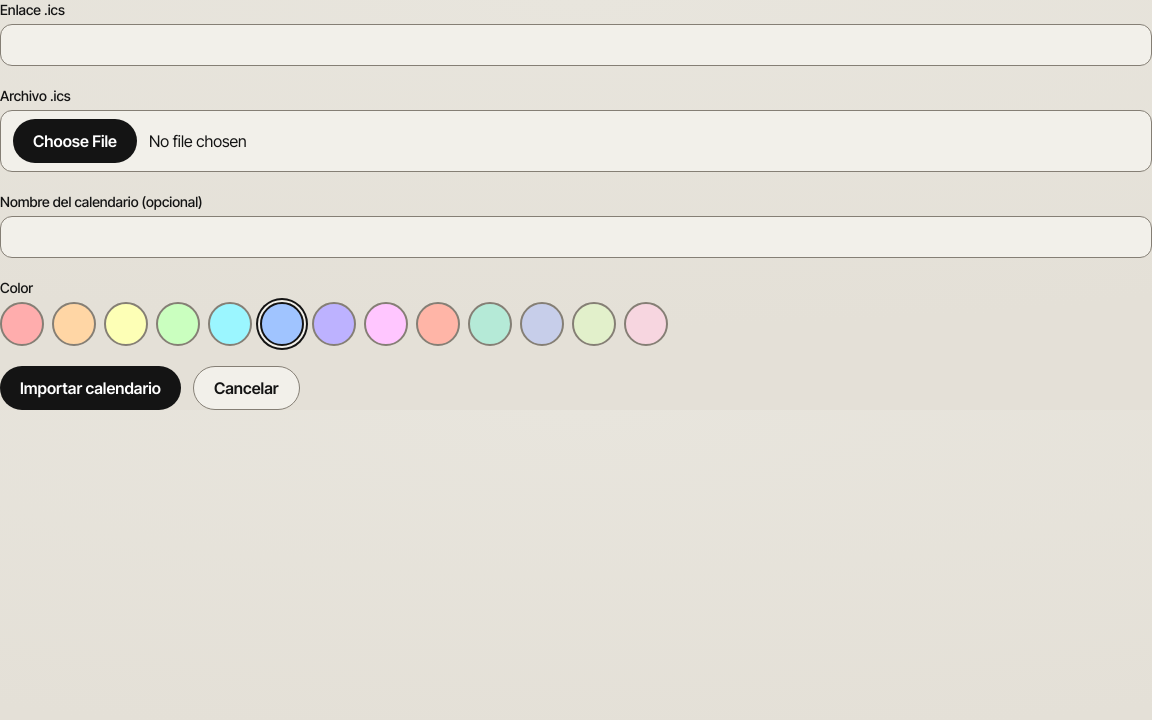
Test: ImportForm progress (RF-31, RF-32) › shows the summary when the import finishes
The image size is (1152, 720).
Step 1. Click the button "Importar calendario" → (90, 388), box x1=0 y1=366 x2=181 y2=410
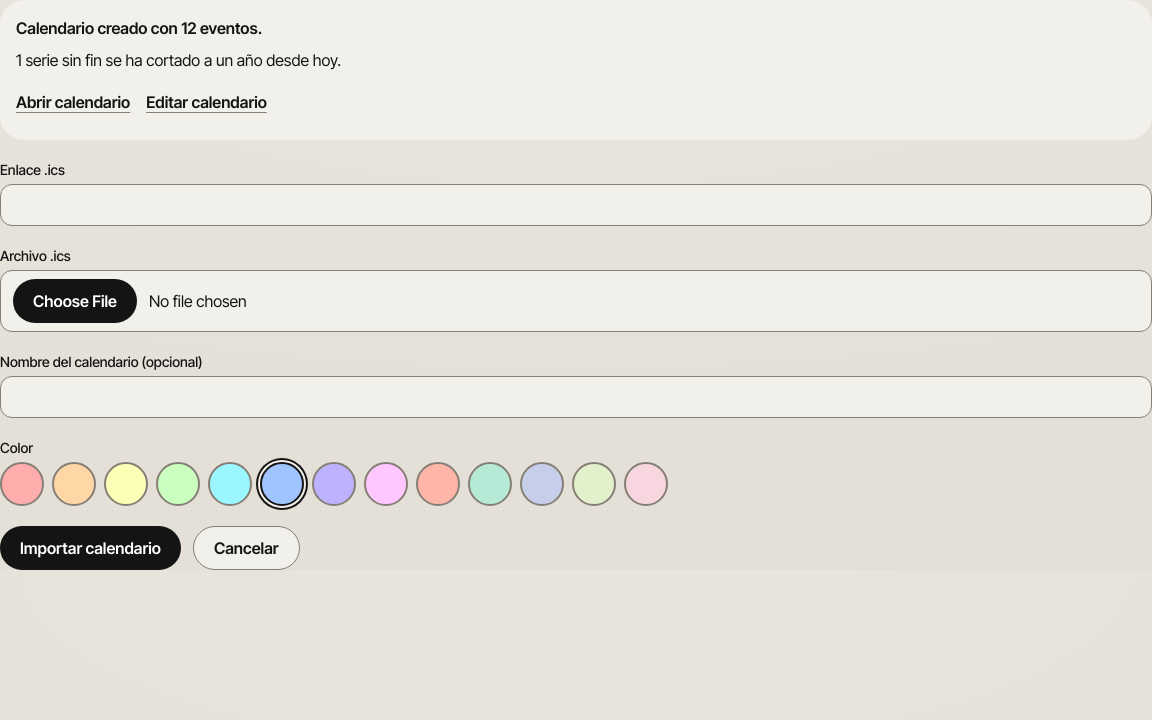
Check: the message shows "Calendario creado con 12 eventos.", box x1=0 y1=0 x2=1151 y2=140
Check: the link "Abrir calendario" is shown, box x1=16 y1=92 x2=130 y2=112
